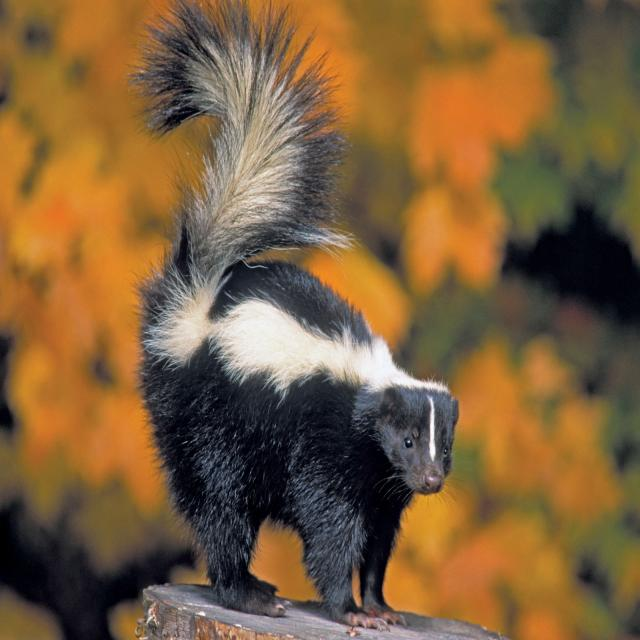Skunk: (121, 0, 473, 640)
